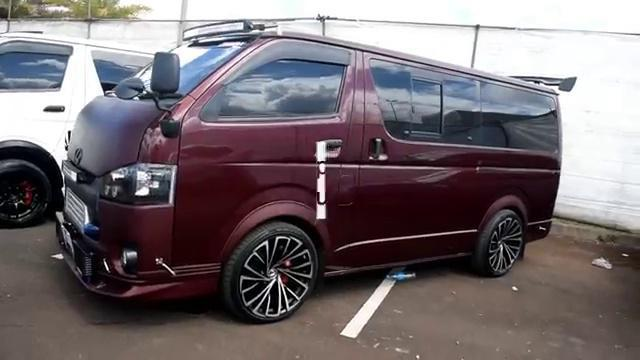Van: (55, 18, 565, 296)
